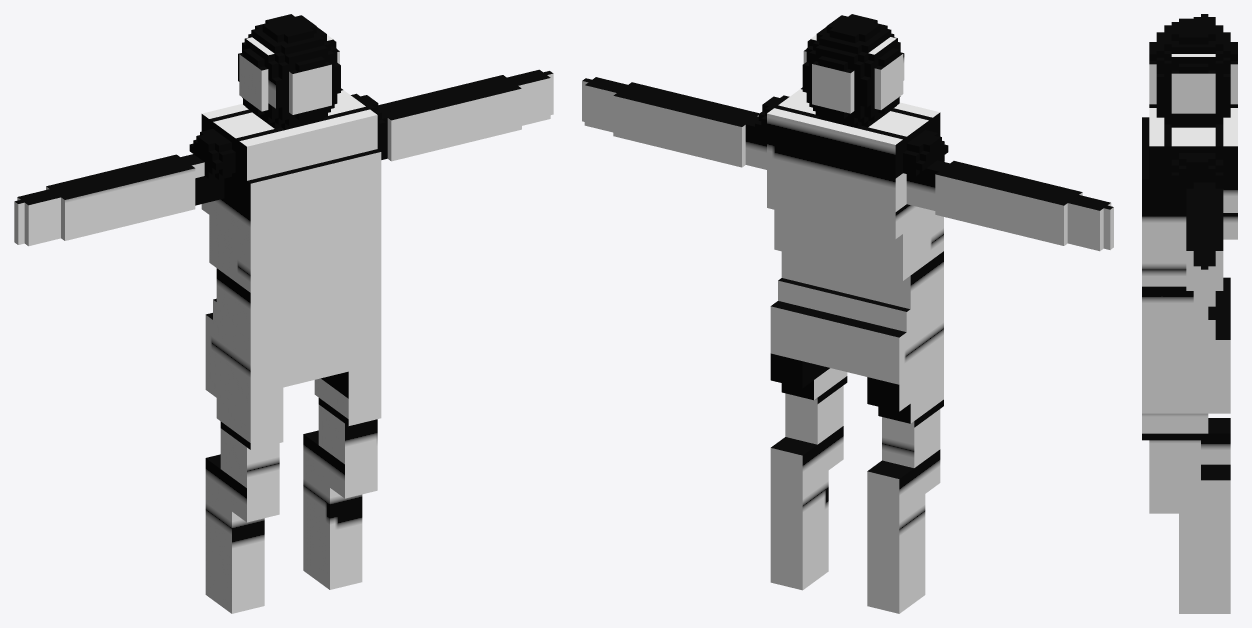
The model's file is humanoid.obj.
The picture shows the model from 3 angles, left to right: view 1: azimuth 30°, elevation 25°; view 2: azimuth 150°, elevation 25°; view 3: azimuth 270°, elevation 25°; orthographic projection. The views are drawn at different scales.
Visible parts, largest first — view 1: Matrix; view 2: Matrix; view 3: Matrix.
Boxes of the visible parts, x1,y1,x2,y2 form: Matrix: [14, 14, 553, 613]; Matrix: [582, 14, 1113, 613]; Matrix: [1142, 14, 1237, 613].
Bounding box in the file's own units: 82 × 83 × 13.
1 material, 1 textured.
